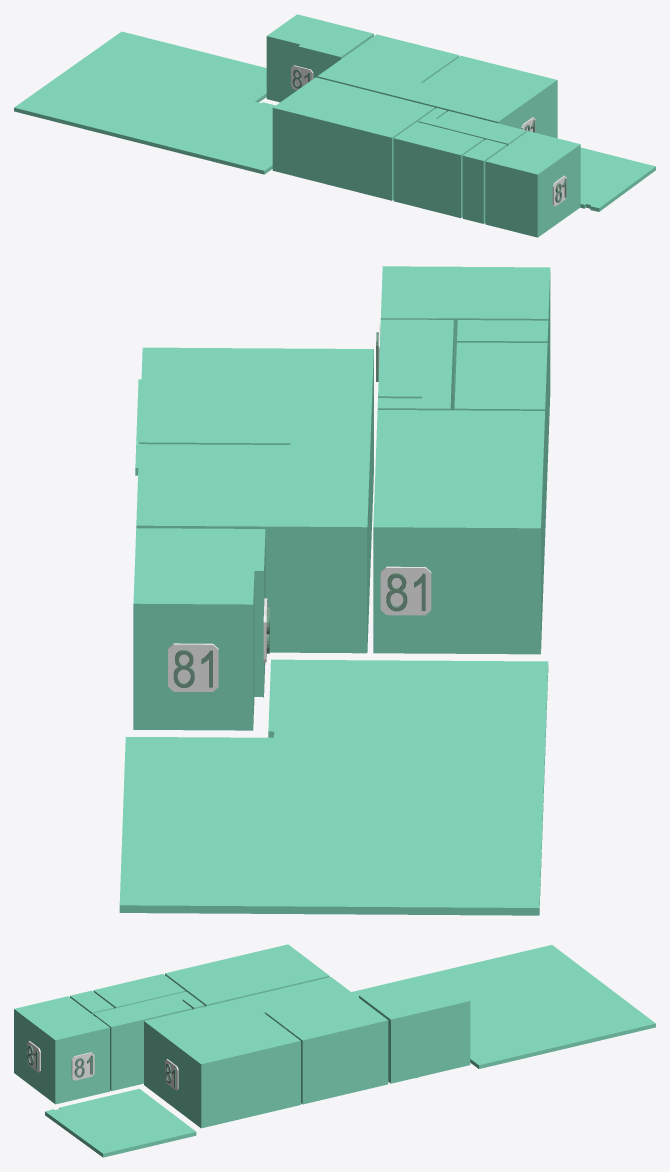
3 renders of one model, top to bottom at view 1: azimuth 30°, elevation 25°; view 2: azimuth 150°, elevation 25°; view 3: azimuth 270°, elevation 25°, orthographic. The views are drawn at different scales.
Visible parts, largest first — view 1: g_8, g_1, g_2, g_4, g_6, g_3, g_0, g_9, g_7, g_5; view 2: g_8, g_1, g_3, g_0, g_4, g_2, g_5, g_6, g_7, g_18, g_21; view 3: g_8, g_4, g_3, g_0, g_2, g_9, g_1, g_5, g_6, g_7, g_27.
Part boxes in pixels (box(x1,y1,x2,y2)): g_8: box(14, 31, 275, 174); g_1: box(272, 77, 434, 200); g_2: box(485, 131, 580, 237); g_4: box(402, 55, 557, 138); g_6: box(393, 122, 483, 218); g_3: box(317, 34, 459, 98); g_0: box(266, 14, 373, 102); g_9: box(580, 147, 655, 211); g_7: box(462, 139, 506, 223); g_5: box(418, 108, 526, 145); g_8: box(119, 659, 548, 915); g_1: box(373, 410, 545, 654); g_3: box(136, 443, 370, 653); g_0: box(133, 528, 265, 730); g_4: box(139, 347, 373, 567); g_2: box(380, 266, 550, 443); g_5: box(377, 319, 453, 410); g_6: box(454, 342, 547, 527); g_7: box(457, 320, 548, 462); g_18: box(380, 566, 431, 615); g_21: box(168, 643, 218, 691); g_8: box(351, 945, 655, 1068); g_4: box(144, 997, 300, 1128); g_3: box(244, 977, 388, 1104); g_0: box(359, 978, 470, 1083); g_2: box(14, 996, 109, 1104); g_9: box(45, 1088, 196, 1157); g_1: box(165, 944, 329, 1006); g_5: box(93, 991, 204, 1091); g_6: box(93, 974, 185, 1008); g_7: box(70, 990, 114, 1014); g_27: box(71, 1052, 94, 1080).
Size of the model in its own units: 17.38 by 2.65 by 22.56.
